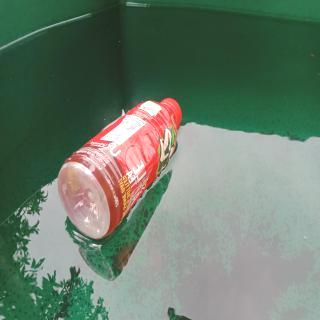bottle: (55, 96, 183, 243)
